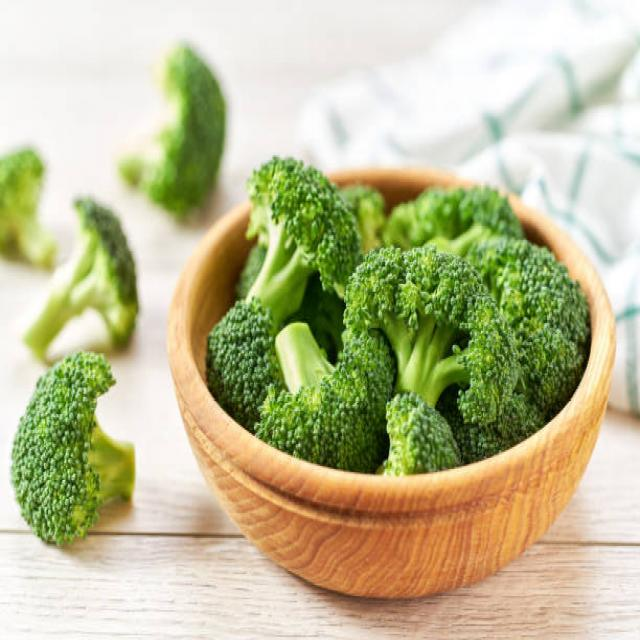Broccoli head: (0, 347, 149, 552), (376, 246, 492, 410), (240, 143, 321, 308), (268, 336, 376, 454), (508, 235, 592, 346)
